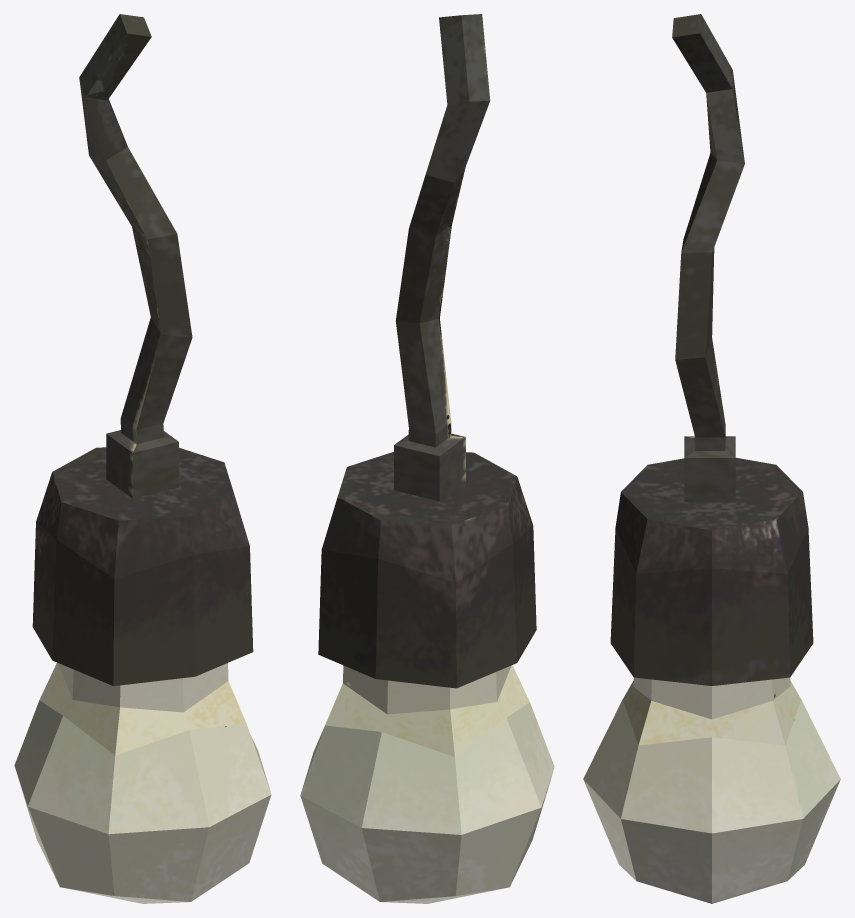
File: lamp3.fbx
The picture shows the model from 3 angles, left to right: view 1: azimuth 30°, elevation 25°; view 2: azimuth 150°, elevation 25°; view 3: azimuth 270°, elevation 25°; orthographic projection. The views are drawn at different scales.
Visible parts, largest first — view 1: лампочка, штука, сосите; view 2: лампочка, штука, сосите; view 3: лампочка, штука, сосите.
Boxes of the visible parts, x1=… form: лампочка: x1=14, y1=662, x2=271, y2=903; штука: x1=32, y1=447, x2=253, y2=686; сосите: x1=79, y1=14, x2=192, y2=498; лампочка: x1=300, y1=665, x2=554, y2=903; штука: x1=318, y1=452, x2=536, y2=688; сосите: x1=394, y1=14, x2=490, y2=501; лампочка: x1=583, y1=677, x2=840, y2=903; штука: x1=610, y1=457, x2=813, y2=685; сосите: x1=672, y1=14, x2=744, y2=502.
Size of the model in its own units: 10.83 by 40.48 by 10.83.
